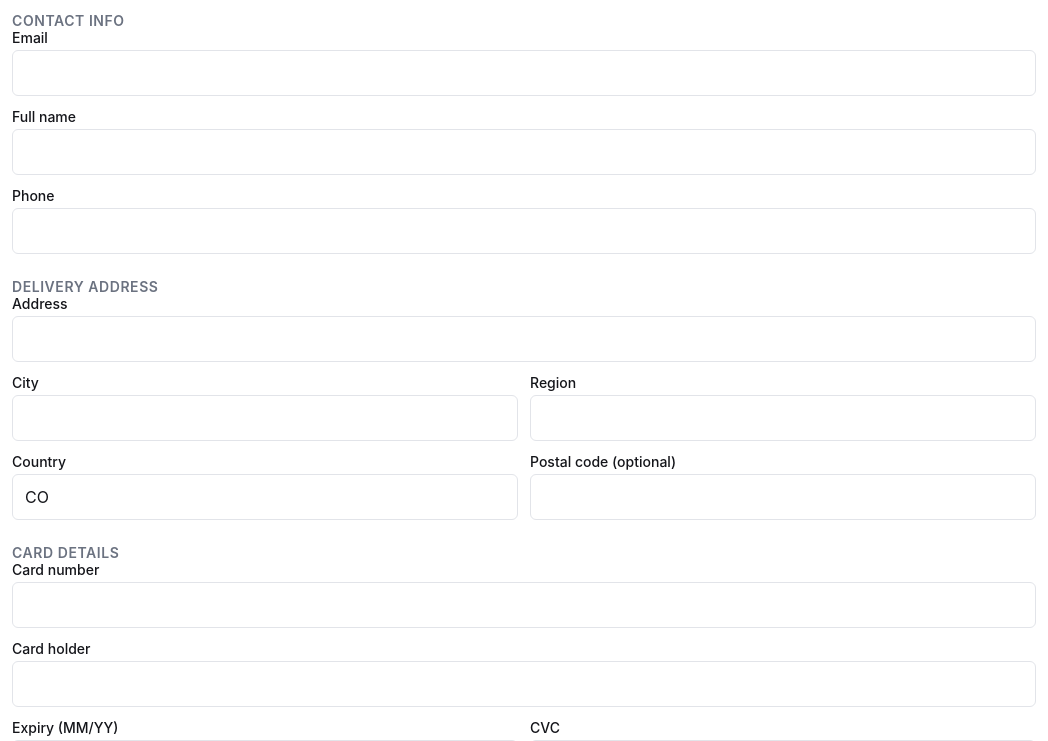
it: CardDeliveryForm › detects and displays the card brand while typing
Type "4242424242424242" into the field labelled "Card number" at (524, 605), box x1=12 y1=582 x2=1036 y2=628
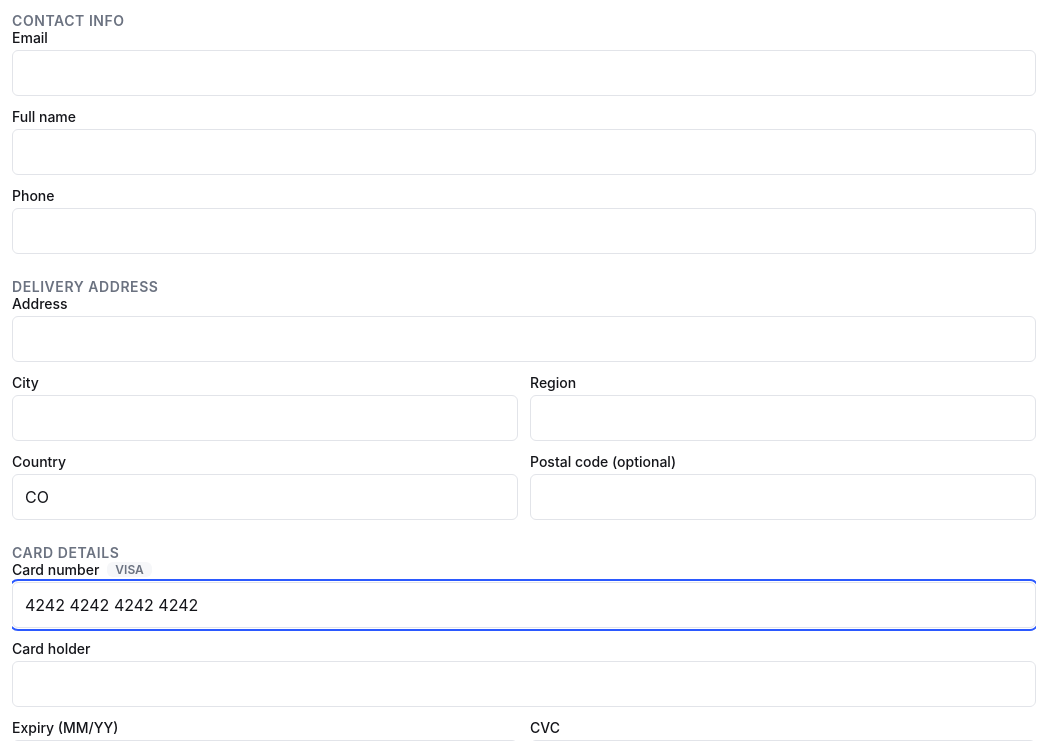
Expected: the text with test id "card-brand" reads "Visa", x1=115 y1=562 x2=144 y2=577
